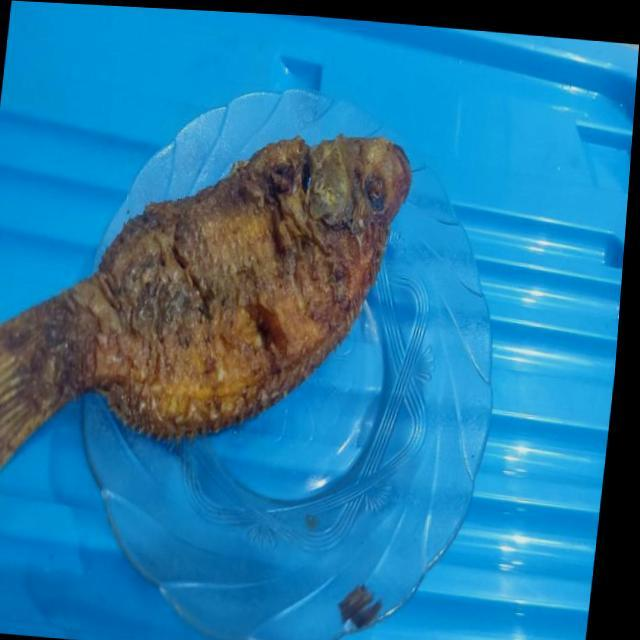ikan_mujair: (0, 120, 411, 468)
